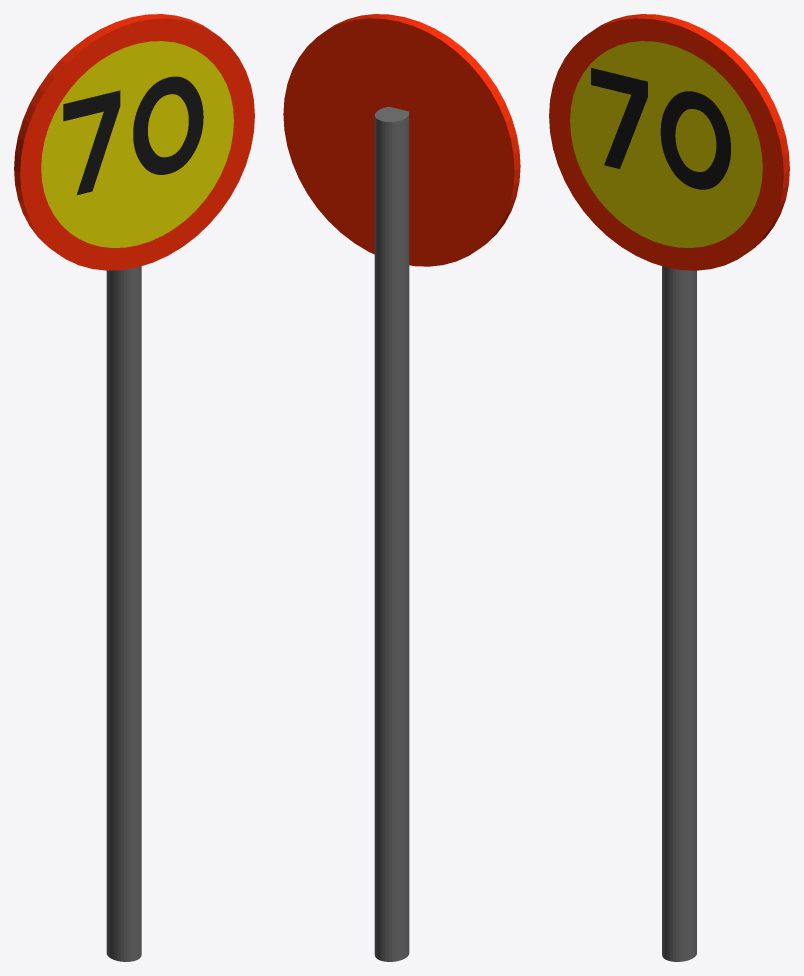
File: Hastighet_70.fbx
The picture shows the model from 3 angles, left to right: view 1: azimuth 30°, elevation 25°; view 2: azimuth 150°, elevation 25°; view 3: azimuth 330°, elevation 25°; orthographic projection.
Parts seen in each view (by area): view 1: Hastighetsskylt, Trafikstolpe1.001, Text.001; view 2: Hastighetsskylt, Trafikstolpe1.001; view 3: Hastighetsskylt, Trafikstolpe1.001, Text.001.
Part boxes in pixels (<box>): Hastighetsskylt: <box>14,14,254,270</box>; Trafikstolpe1.001: <box>106,266,141,961</box>; Text.001: <box>63,76,203,194</box>; Hastighetsskylt: <box>283,14,520,266</box>; Trafikstolpe1.001: <box>374,106,409,961</box>; Hastighetsskylt: <box>549,14,789,270</box>; Trafikstolpe1.001: <box>662,266,696,961</box>; Text.001: <box>591,68,730,189</box>.
Size of the model in its own units: 1.45 by 5.55 by 0.2533.
